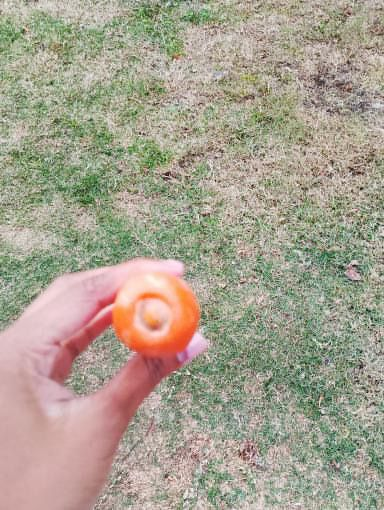carrot: (115, 272, 207, 359)
